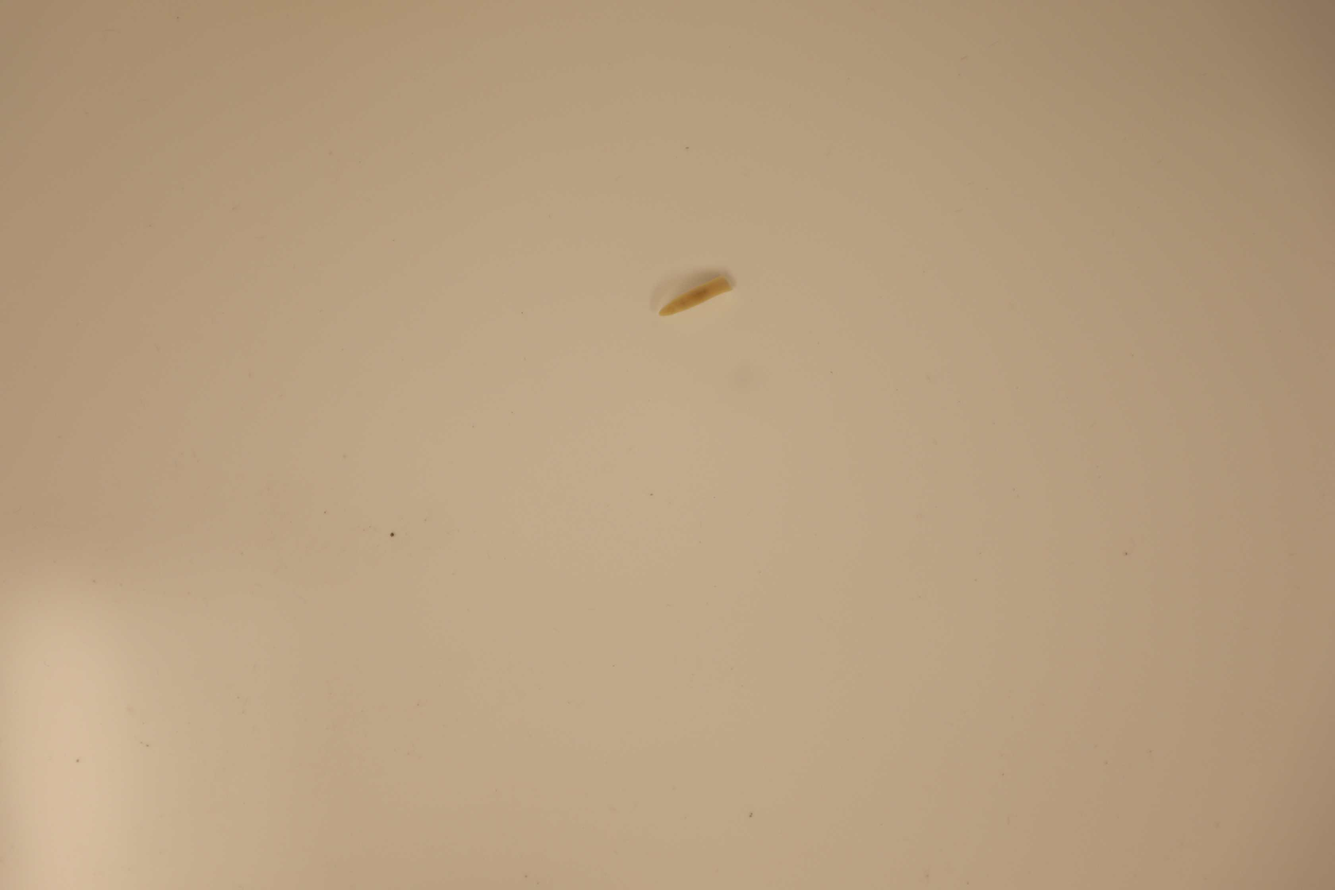Cadisfly: (657, 275, 732, 322)
